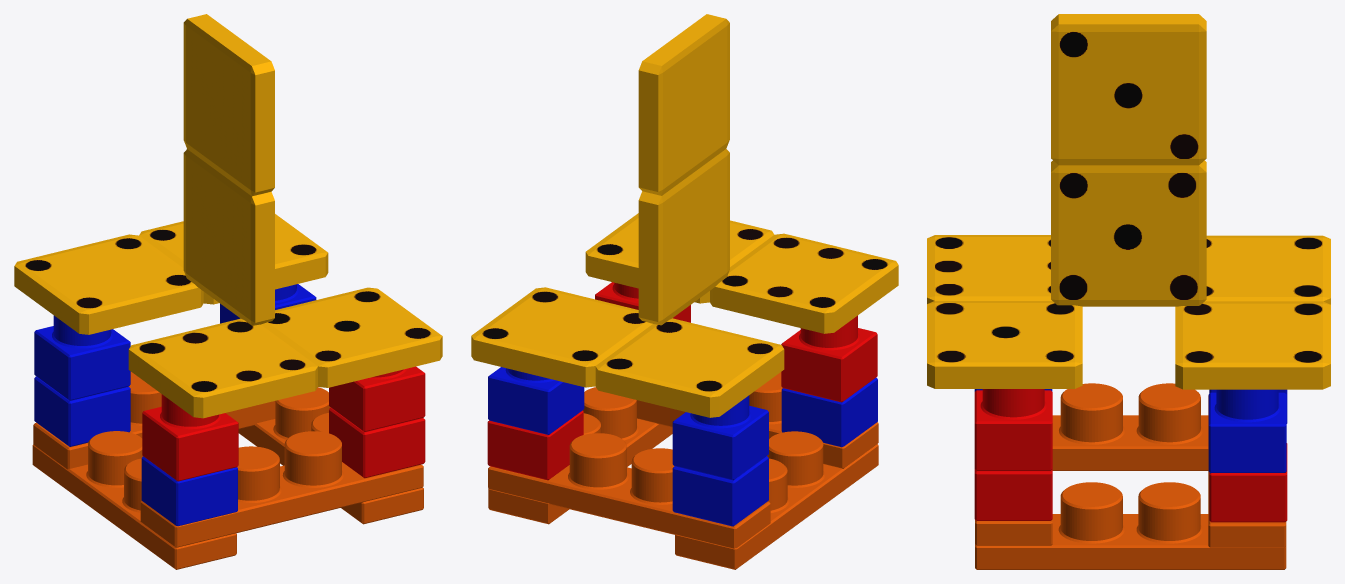
The picture shows the model from 3 angles, left to right: view 1: azimuth 30°, elevation 25°; view 2: azimuth 150°, elevation 25°; view 3: azimuth 270°, elevation 25°; orthographic projection. The views are drawn at different scales.
Visible parts, largest first — view 1: Dom.212_low_0.002, Dom.303_low_2.002, Dom.202_low_2, Cube.041, Cube.046, Cube.047, Cube.038, Cube.044, Cube.039, Cube.042, Cube.040, Cube.043; view 2: Dom.212_low_0.002, Dom.202_low_2, Dom.303_low_2.002, Cube.040, Cube.046, Cube.038, Cube.044, Cube.039, Cube.043, Cube.042, Cube.045, Cube.041 (+1 smaller); view 3: Dom.212_low_0.002, Dom.202_low_2, Dom.303_low_2.002, Cube.039, Cube.038, Cube.047, Cube.043, Cube.045, Cube.040, Cube.041.
Part boxes in pixels (bbox=[...]): Dom.212_low_0.002: bbox=[183, 14, 274, 325]; Dom.303_low_2.002: bbox=[128, 287, 442, 418]; Dom.202_low_2: bbox=[14, 214, 328, 334]; Cube.041: bbox=[140, 431, 423, 547]; Cube.046: bbox=[34, 315, 130, 446]; Cube.047: bbox=[329, 366, 425, 478]; Cube.038: bbox=[32, 431, 236, 569]; Cube.044: bbox=[142, 394, 238, 481]; Cube.039: bbox=[238, 387, 423, 524]; Cube.042: bbox=[141, 456, 237, 526]; Cube.040: bbox=[33, 371, 275, 469]; Cube.043: bbox=[220, 284, 316, 323]; Dom.212_low_0.002: bbox=[638, 14, 729, 325]; Dom.202_low_2: bbox=[471, 287, 784, 417]; Dom.303_low_2.002: bbox=[585, 213, 898, 333]; Cube.040: bbox=[488, 433, 770, 548]; Cube.046: bbox=[672, 395, 768, 526]; Cube.038: bbox=[675, 431, 878, 569]; Cube.044: bbox=[781, 315, 877, 402]; Cube.039: bbox=[488, 387, 672, 524]; Cube.043: bbox=[488, 367, 584, 434]; Cube.042: bbox=[781, 377, 877, 447]; Cube.045: bbox=[487, 410, 583, 480]; Cube.041: bbox=[637, 372, 878, 468]; Dom.212_low_0.002: bbox=[1051, 14, 1206, 306]; Dom.202_low_2: bbox=[1175, 235, 1330, 389]; Dom.303_low_2.002: bbox=[927, 235, 1082, 388]; Cube.039: bbox=[975, 482, 1286, 569]; Cube.038: bbox=[1052, 383, 1208, 470]; Cube.047: bbox=[974, 389, 1052, 520]; Cube.043: bbox=[1208, 389, 1286, 473]; Cube.045: bbox=[1209, 443, 1287, 522]; Cube.040: bbox=[1208, 395, 1286, 547]; Cube.041: bbox=[975, 519, 1052, 545].
Bounding box in the file's own units: 4.03 × 6.89 × 5.19.
Materials: 10 (5 with a texture image).
